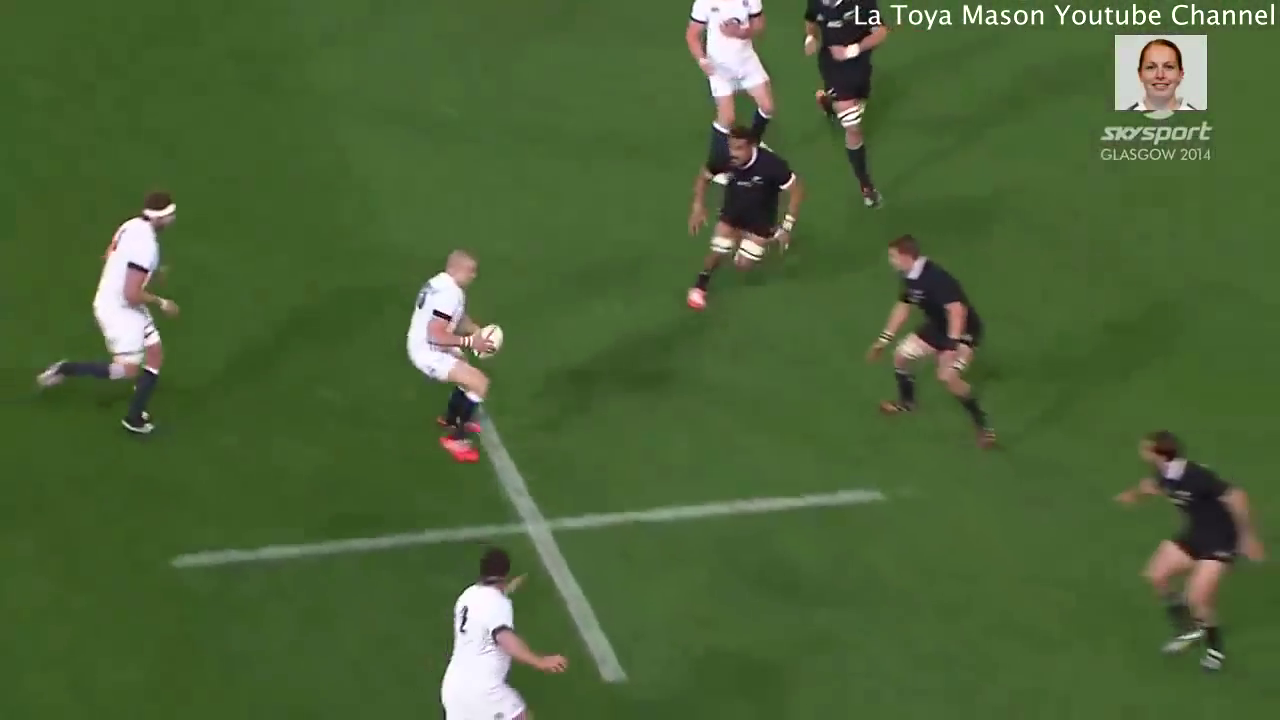10_metre: (161, 377, 904, 703)
player: (25, 180, 197, 439), (1109, 427, 1275, 680), (857, 224, 1024, 458), (657, 124, 813, 328), (390, 233, 518, 476), (413, 534, 574, 720), (786, 1, 903, 212), (677, 1, 784, 194)
